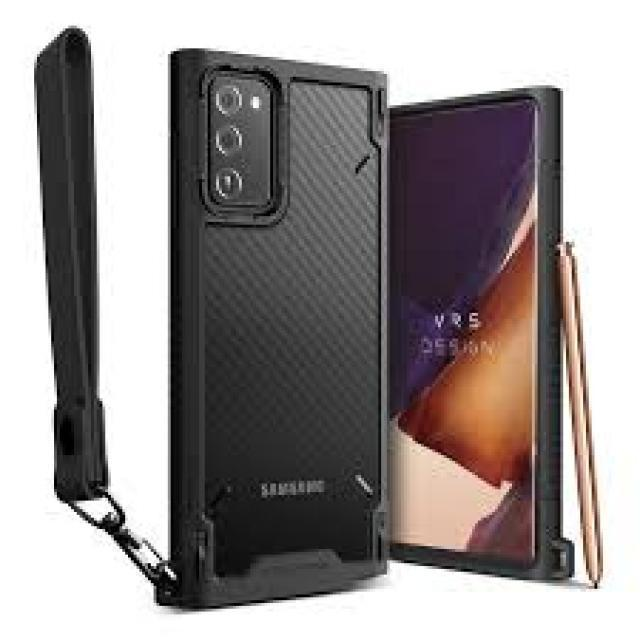phone: (162, 46, 394, 614), (384, 81, 568, 584)
